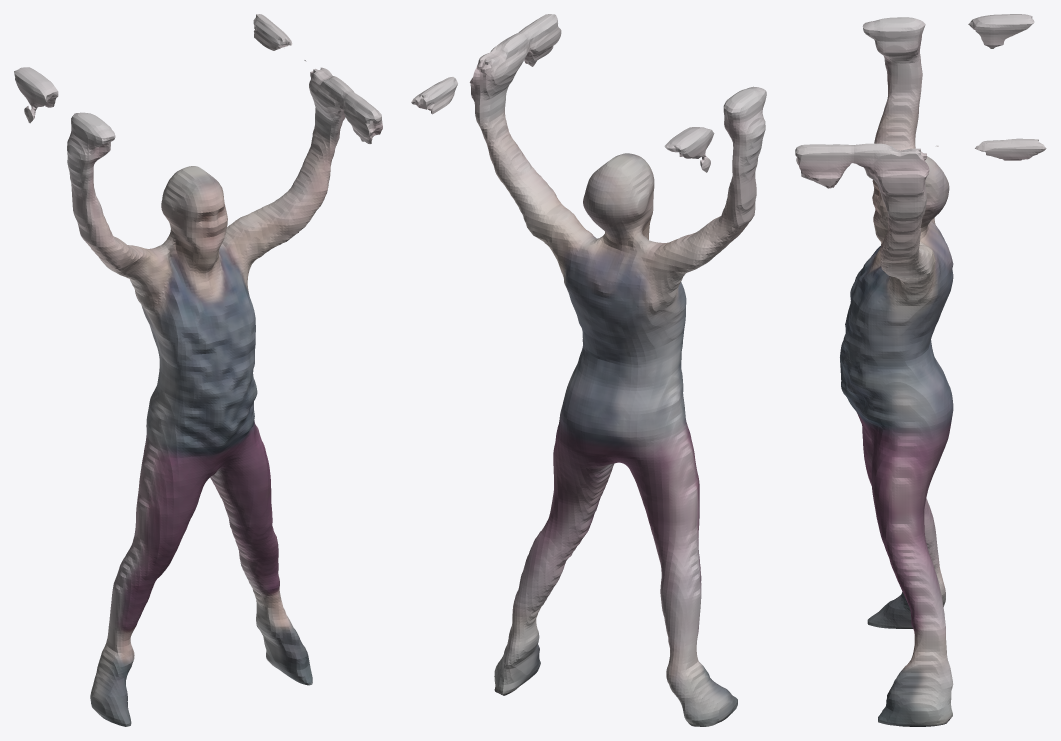
File: 0127_tex.glb
3 renders of one model, left to right at view 1: azimuth 30°, elevation 25°; view 2: azimuth 150°, elevation 25°; view 3: azimuth 270°, elevation 25°, orthographic. The views are drawn at different scales.
Visible parts, largest first — view 1: 0127_tex.obj; view 2: 0127_tex.obj; view 3: 0127_tex.obj.
Boxes of the visible parts, x1,y1,x2,y2 form: 0127_tex.obj: [14, 14, 382, 726]; 0127_tex.obj: [411, 14, 766, 726]; 0127_tex.obj: [795, 14, 1046, 726].
Bounding box in the file's own units: 0.4122 × 0.8985 × 0.3382.
